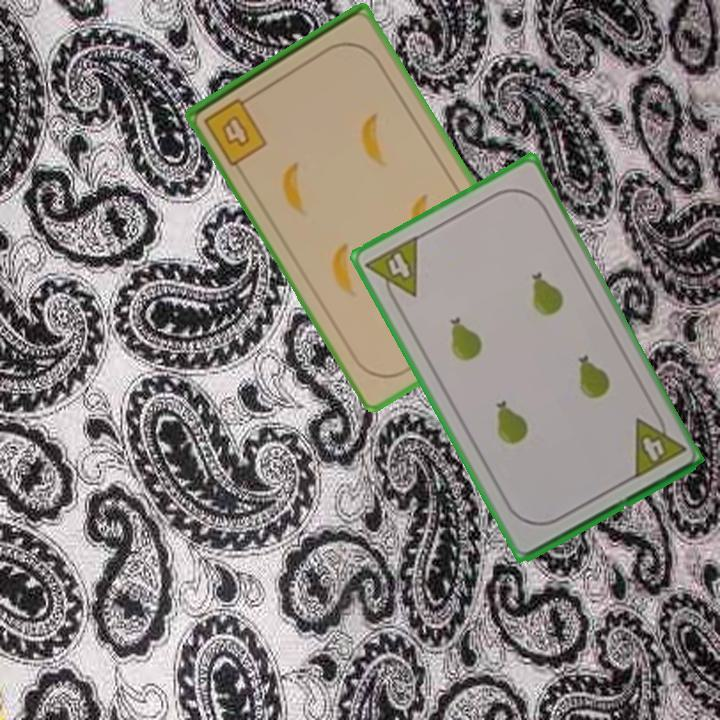4b: (200, 91, 271, 169)
4p: (629, 406, 689, 482), (362, 232, 421, 309)
